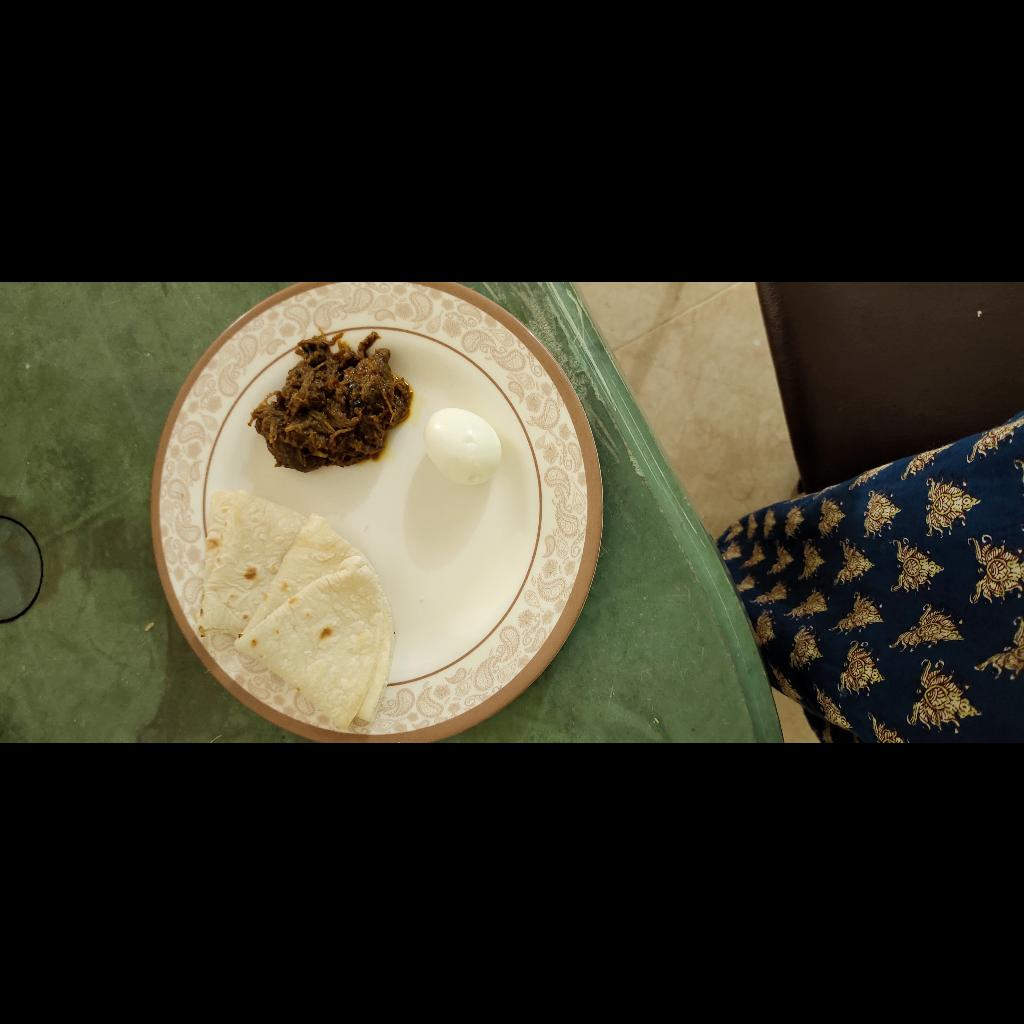achar: (272, 519, 407, 690)
egg-boiled: (254, 701, 339, 788)
ruti: (5, 482, 255, 672)
